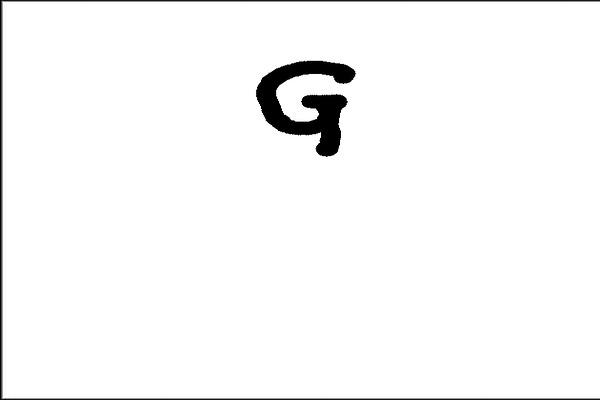G: (250, 54, 358, 158)
